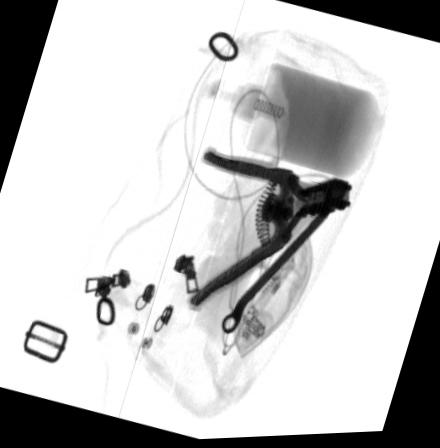Pliers: (186, 149, 353, 309)
Wrench: (219, 179, 345, 336)
